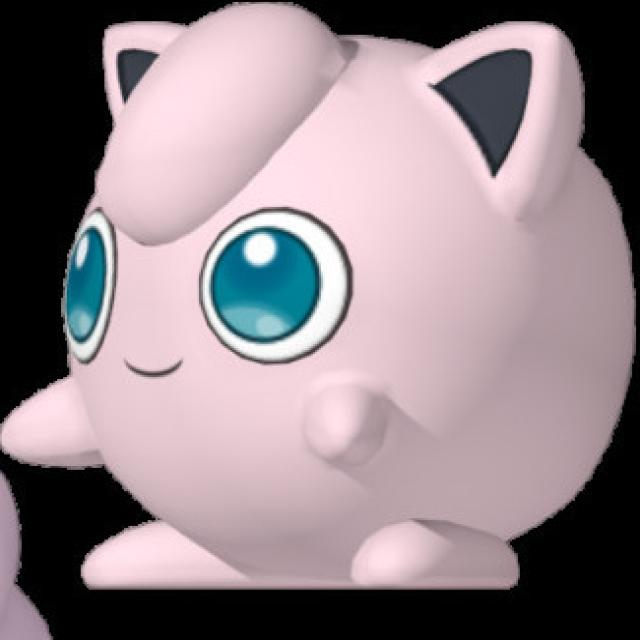Jigglypuff: (21, 4, 638, 602)
